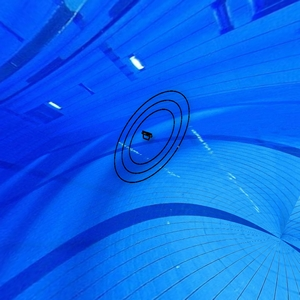circle: (111, 87, 195, 184)
submarine: (140, 127, 157, 144)
